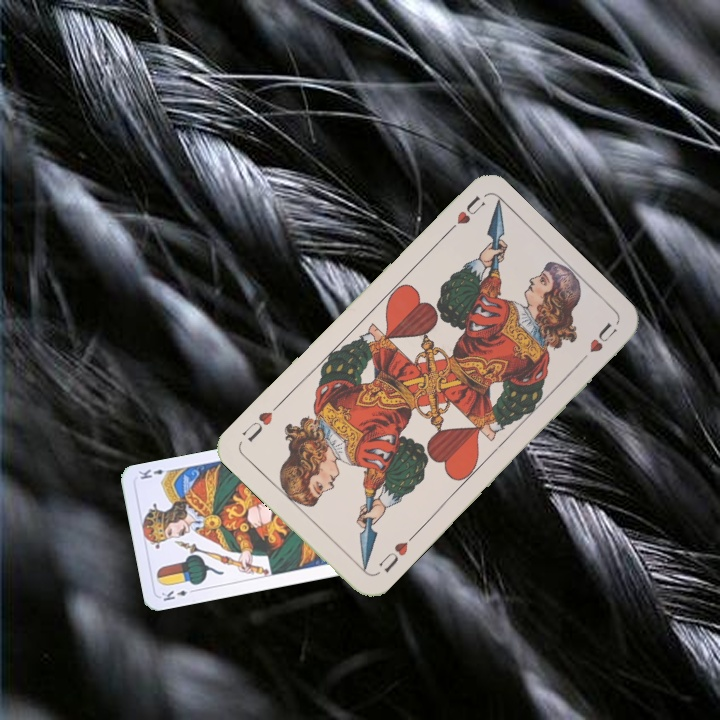EK: (157, 585, 198, 604)
HU: (440, 192, 488, 239), (376, 530, 417, 575)
